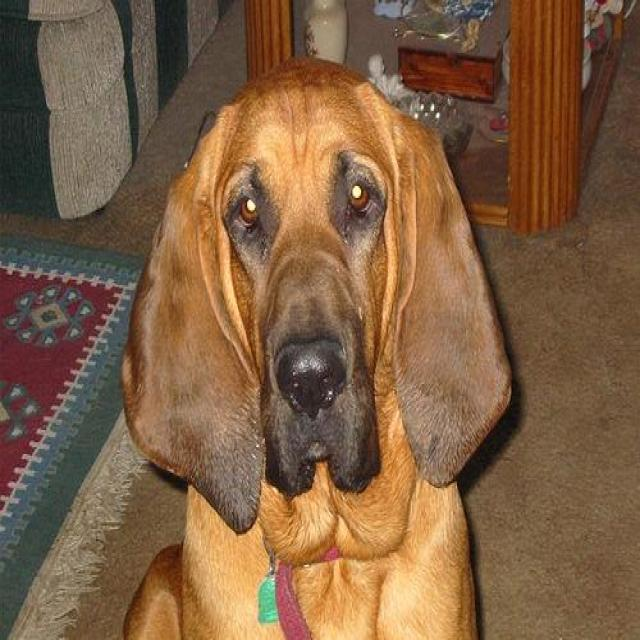bloodhound: (115, 53, 512, 636)
